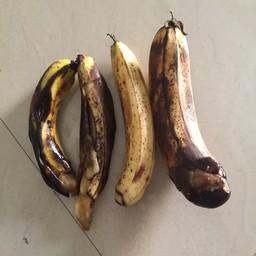Bad_banana: (70, 48, 110, 232), (30, 53, 77, 198)
